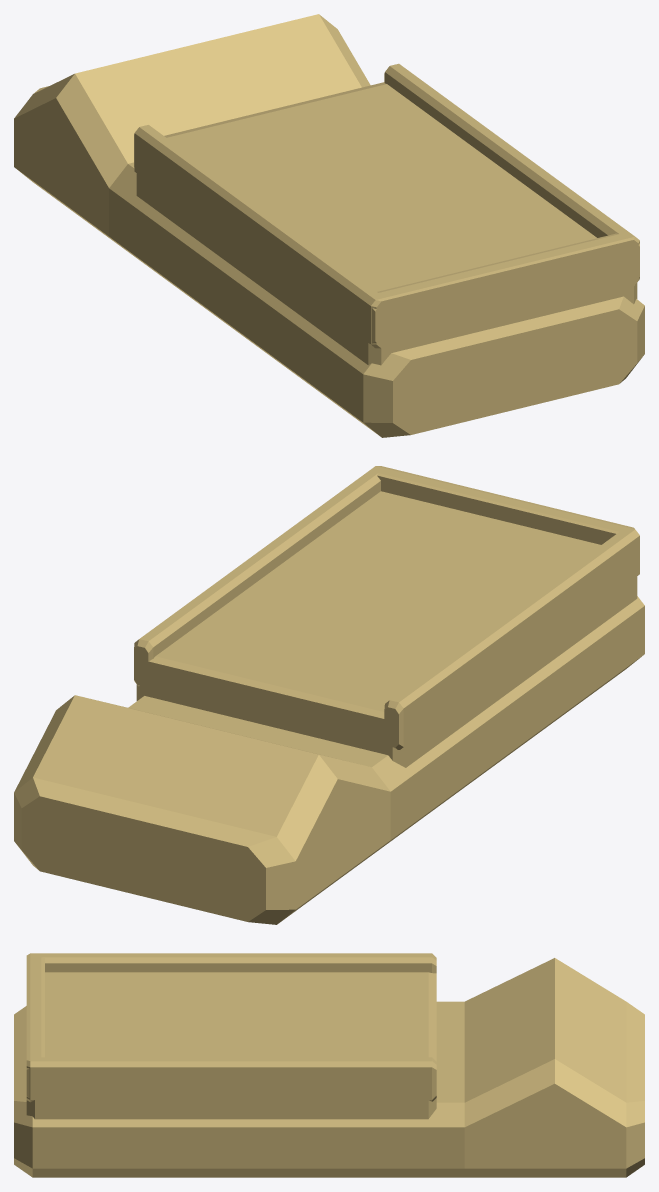
The model's file is tallow_transport_a.glb.
The picture shows the model from 3 angles, top to bottom: view 1: azimuth 30°, elevation 25°; view 2: azimuth 150°, elevation 25°; view 3: azimuth 270°, elevation 25°; orthographic projection. The views are drawn at different scales.
Parts seen in each view (by area): view 1: tallow_transport_a; view 2: tallow_transport_a; view 3: tallow_transport_a.
Part boxes in pixels (left/top/right/bottom): tallow_transport_a: left=14, top=14, right=644, bottom=437; tallow_transport_a: left=14, top=466, right=644, bottom=924; tallow_transport_a: left=14, top=953, right=644, bottom=1177.
Bounding box in the file's own units: 3.9 × 1.86 × 8.9.
